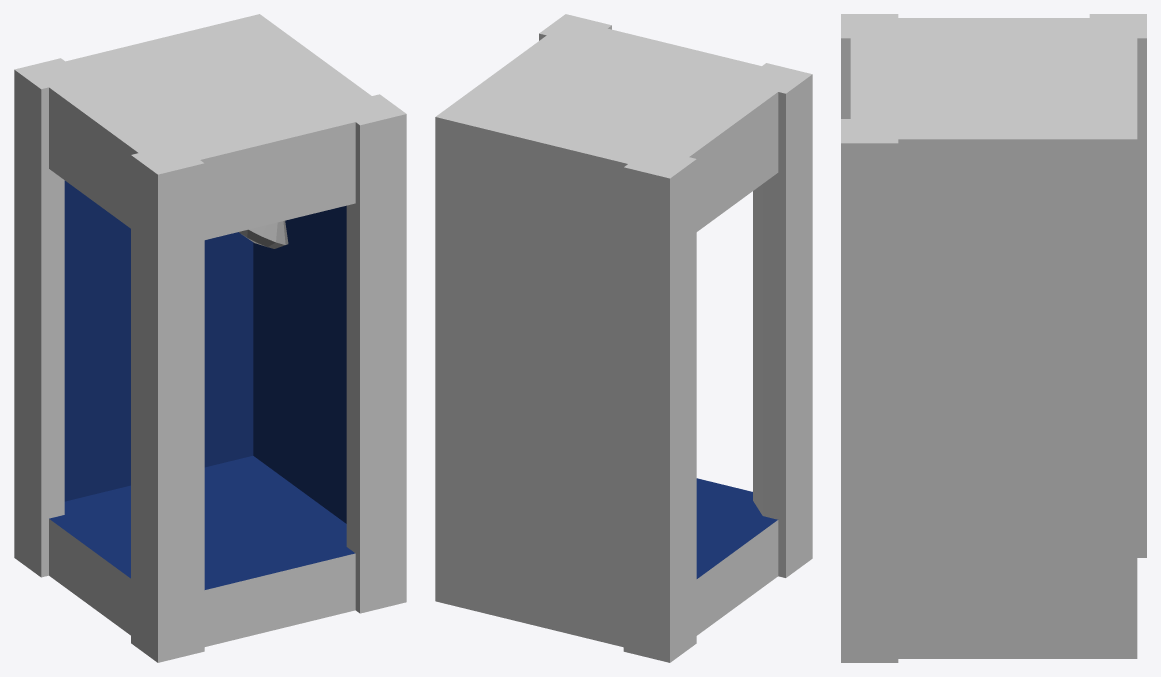
Rendered from Shower.fbx.
The picture shows the model from 3 angles, left to right: view 1: azimuth 30°, elevation 25°; view 2: azimuth 150°, elevation 25°; view 3: azimuth 270°, elevation 25°; orthographic projection. The views are drawn at different scales.
Parts seen in each view (by area): view 1: Cube_2, Cone; view 2: Cube_2; view 3: Cube_2.
Boxes of the visible parts, <box> form: Cube_2: <box>14,14,406,662</box>; Cone: <box>239,220,288,248</box>; Cube_2: <box>435,14,812,662</box>; Cube_2: <box>841,14,1146,662</box>.
Bounding box in the file's own units: 320 × 600 × 320.
